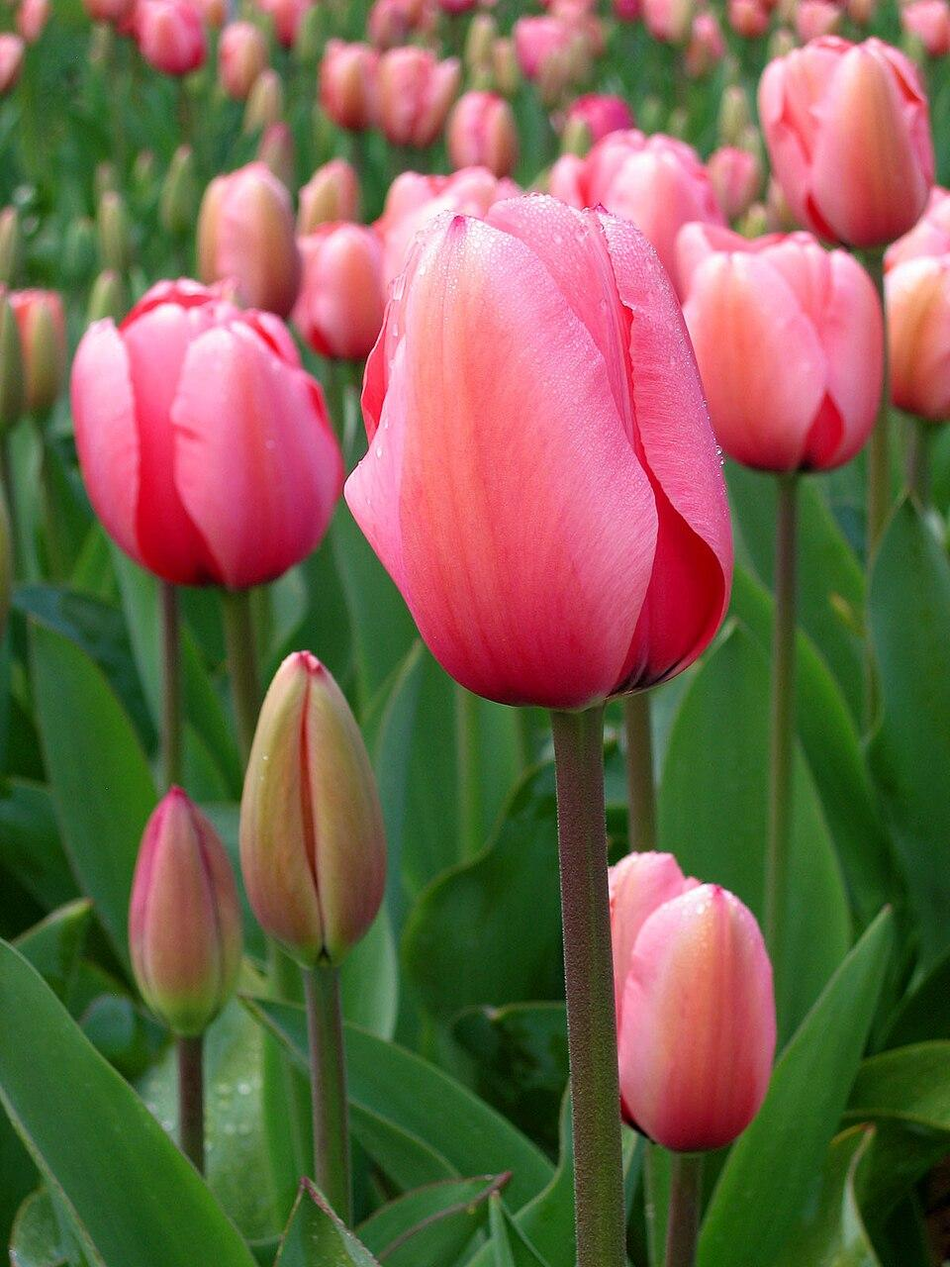tulip: (341, 190, 735, 713)
